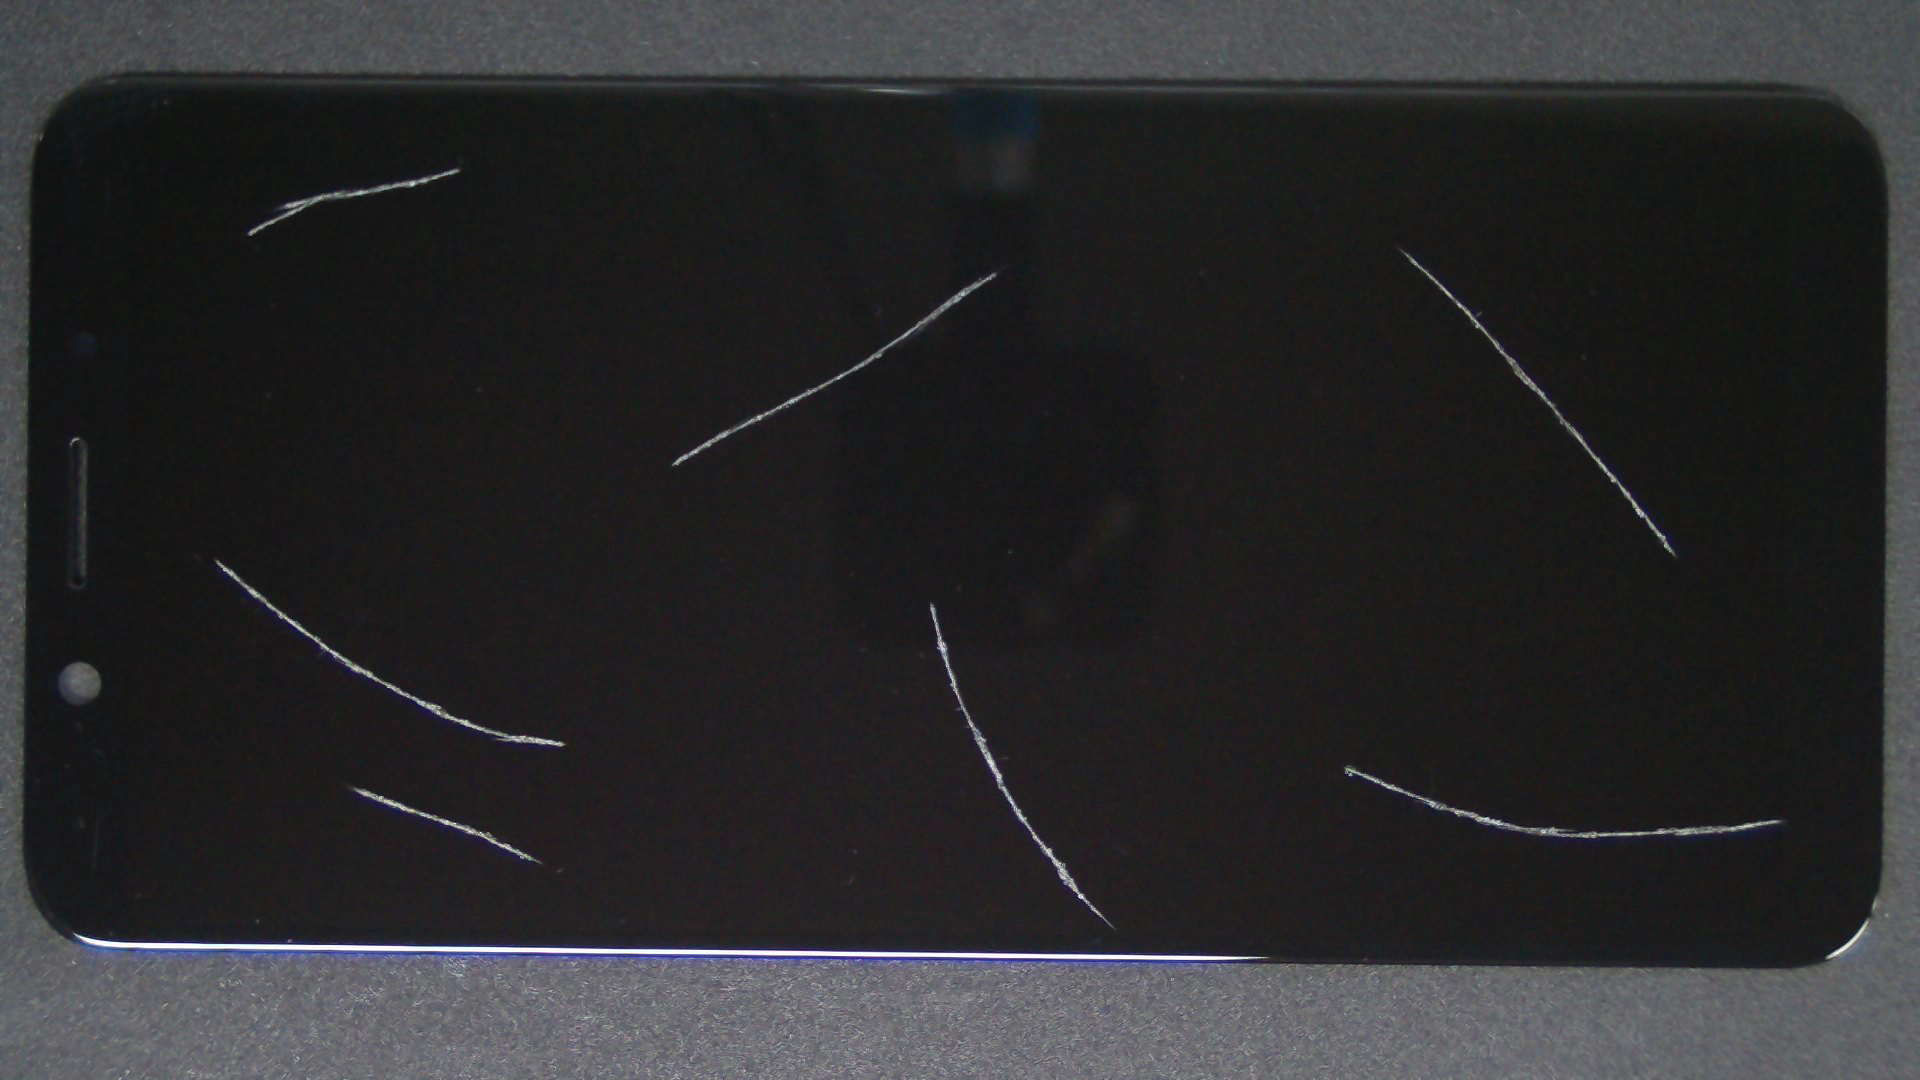defect: (1396, 248, 1679, 560), (214, 559, 566, 746), (671, 272, 997, 467), (928, 601, 1118, 932), (1342, 764, 1785, 839), (349, 785, 542, 864), (247, 166, 460, 237)
